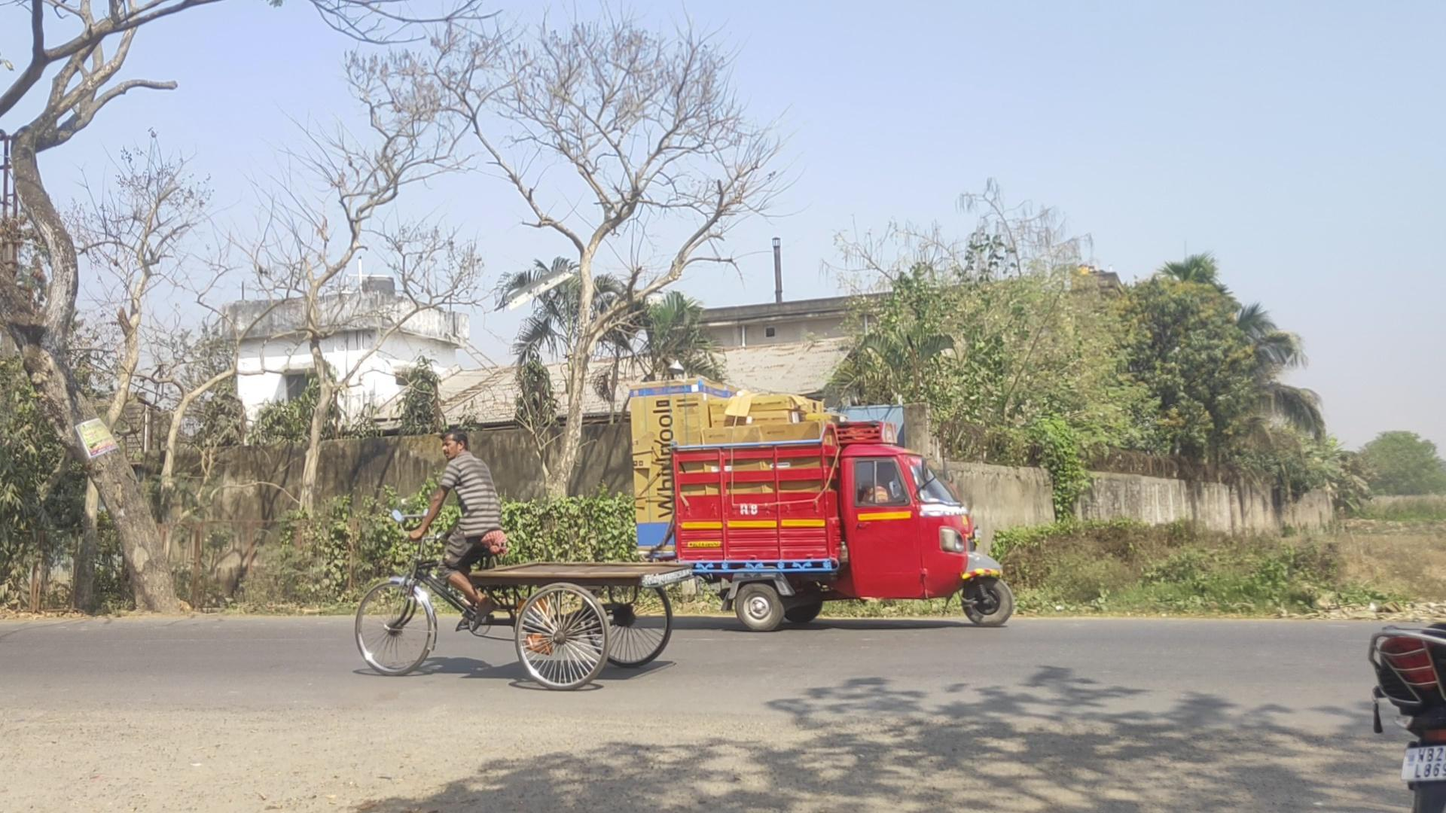van: (628, 378, 1014, 632)
